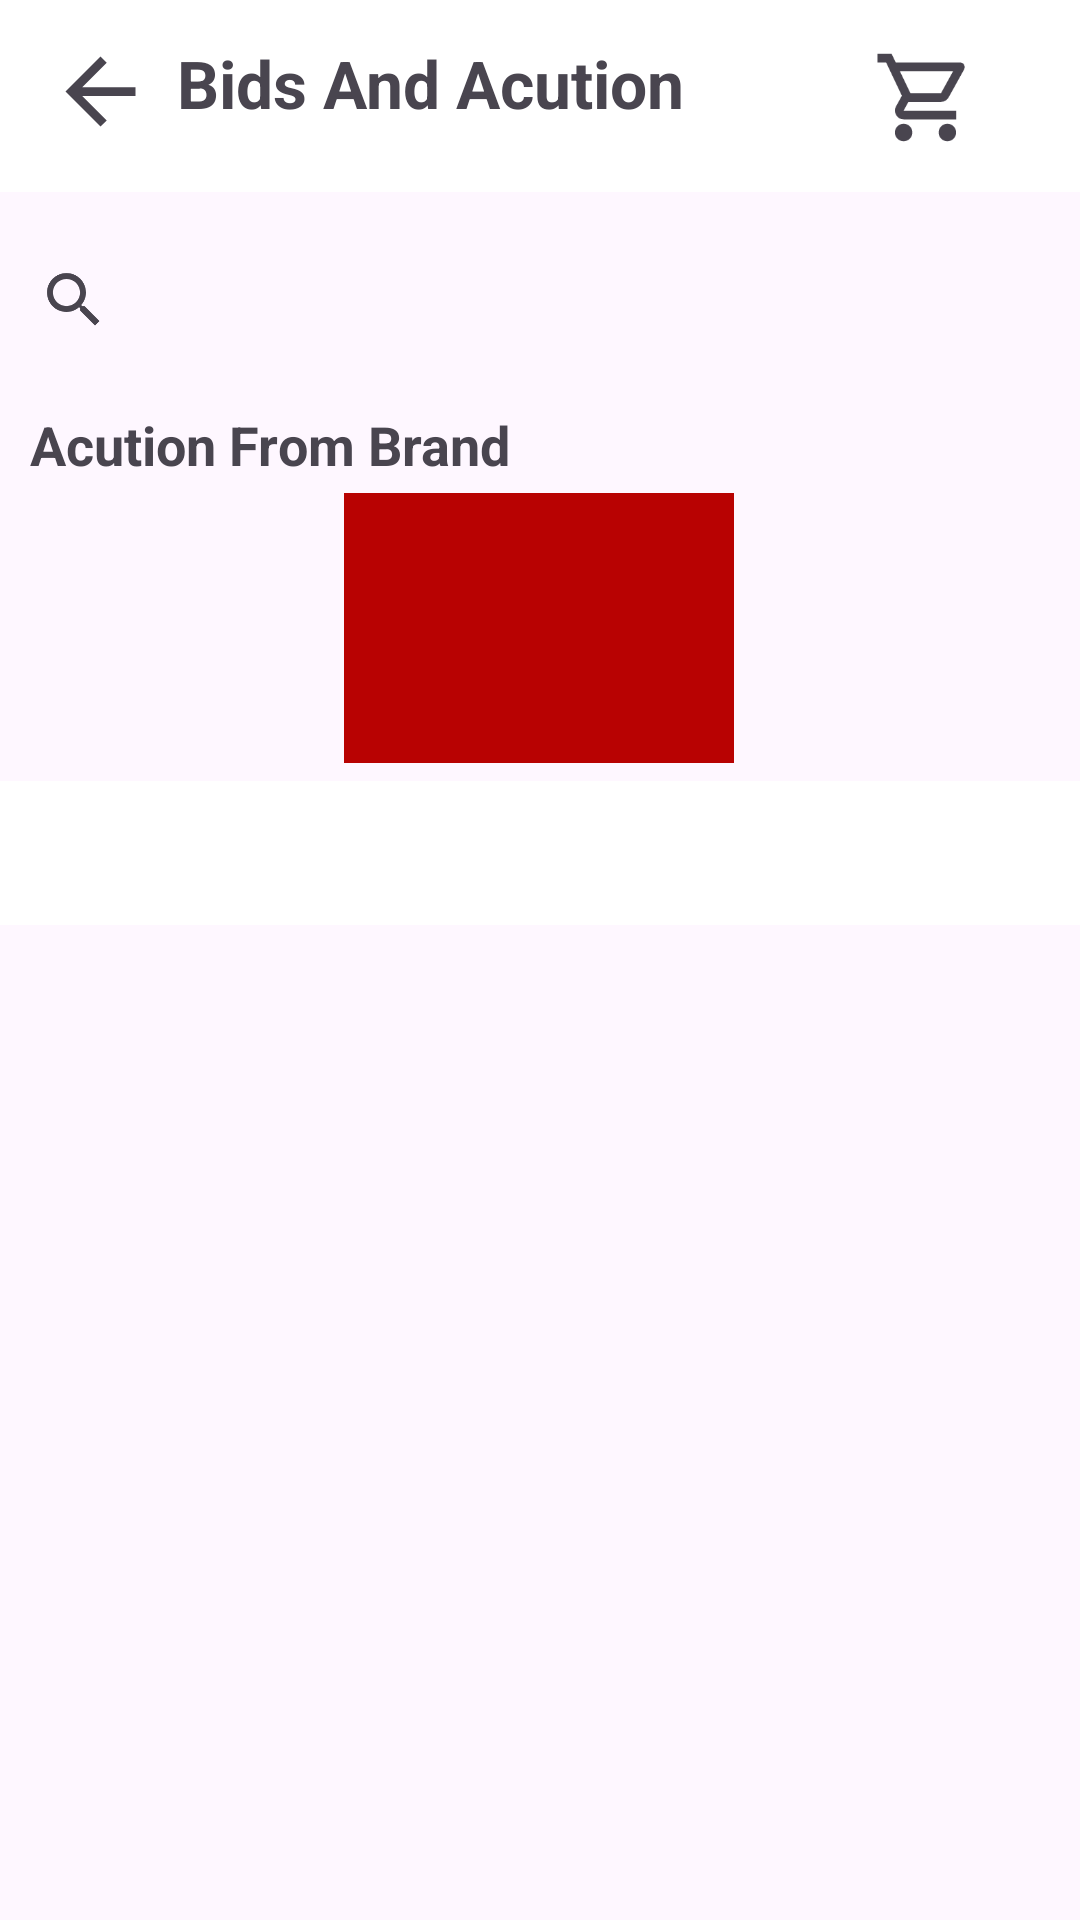

Screen size 1080px×1920px. Icon name, then its box in pixels as (x1, y1, x2, y2):
backarro: (65, 56, 136, 127)
cart: (877, 53, 965, 142)
